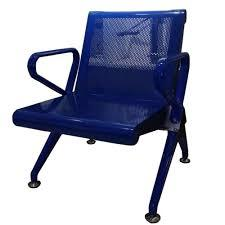chair: (10, 10, 191, 225)
